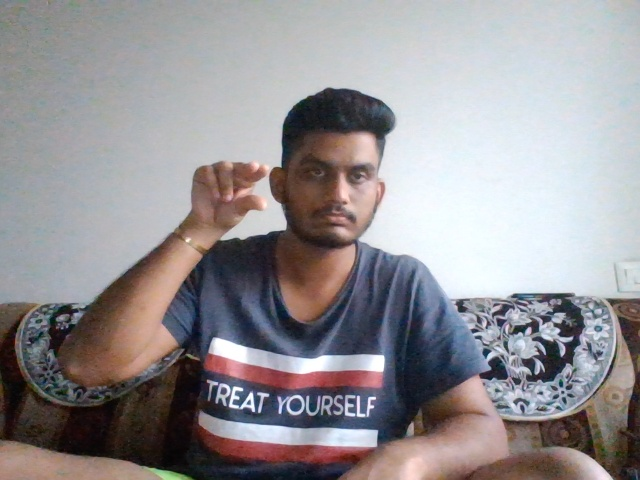No: (180, 159, 268, 226)
